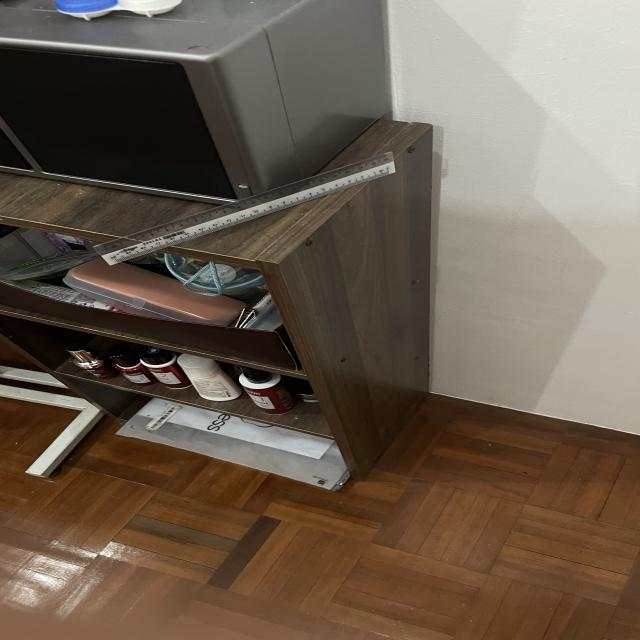ruler: (95, 152, 395, 265)
